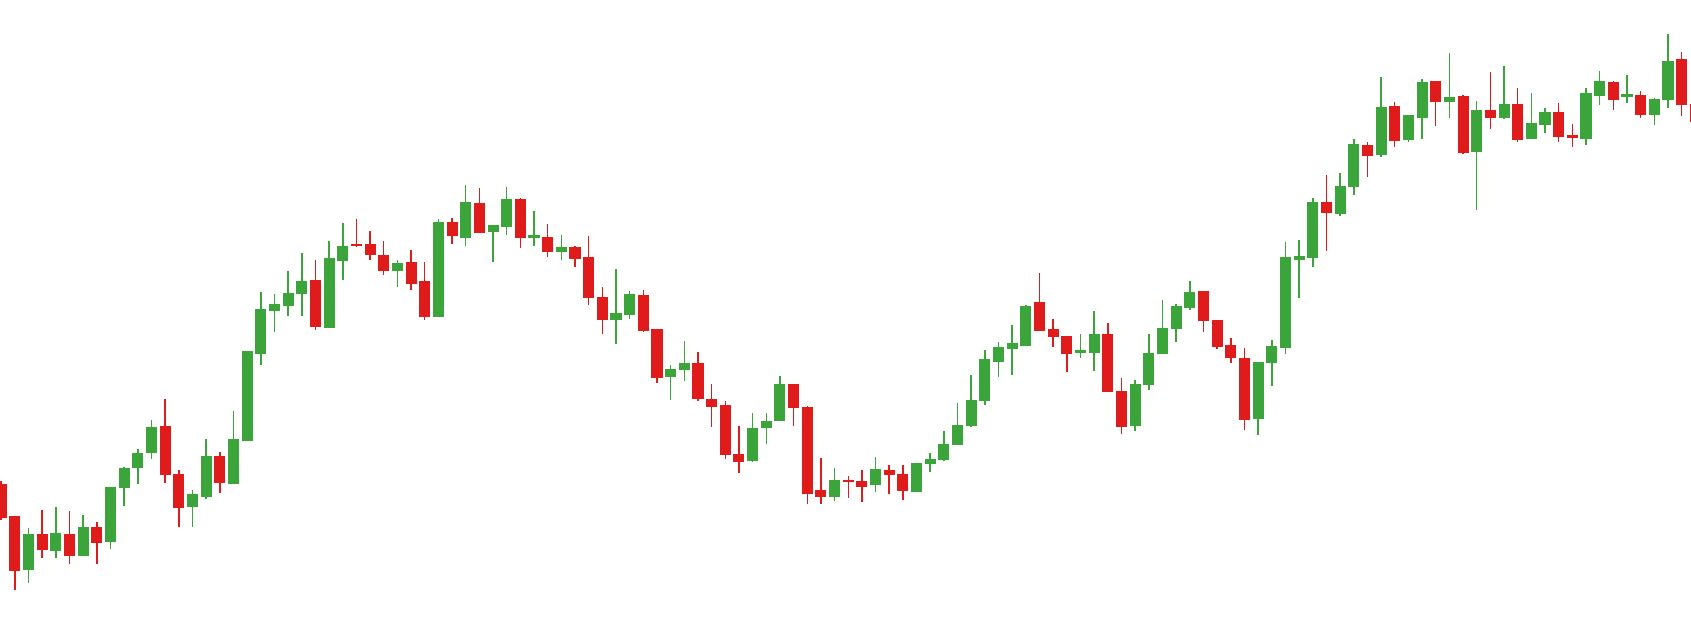buy: (1114, 327, 1267, 438), (120, 432, 197, 532)
